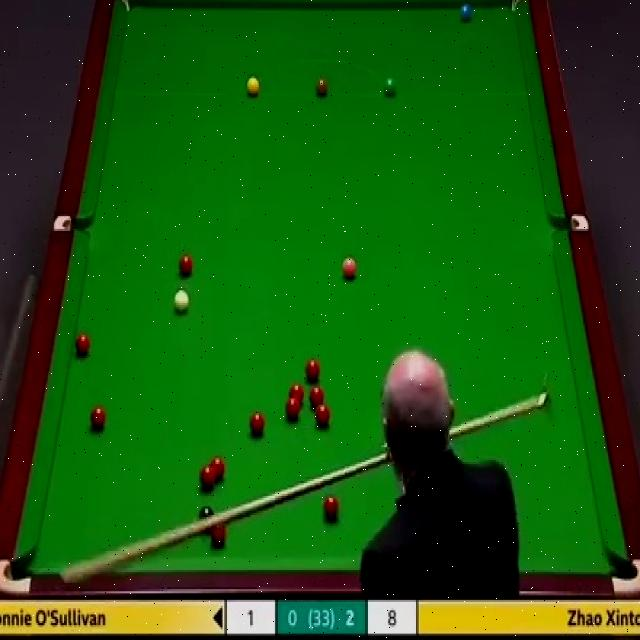black-ball: (200, 507, 213, 521)
blue-ball: (457, 1, 472, 23)
brown-ball: (314, 76, 328, 96)
green-ball: (382, 77, 396, 96)
pink-ball: (342, 258, 358, 282)
red-ball: (88, 402, 106, 430), (314, 400, 330, 427), (210, 455, 224, 483), (74, 331, 89, 357), (249, 409, 264, 435), (325, 495, 339, 522), (286, 398, 302, 421), (200, 466, 215, 490), (288, 382, 305, 403), (211, 527, 227, 549), (310, 385, 324, 408), (178, 256, 193, 276)
white-ball: (173, 289, 189, 312)
yellow-ball: (246, 76, 260, 96)
